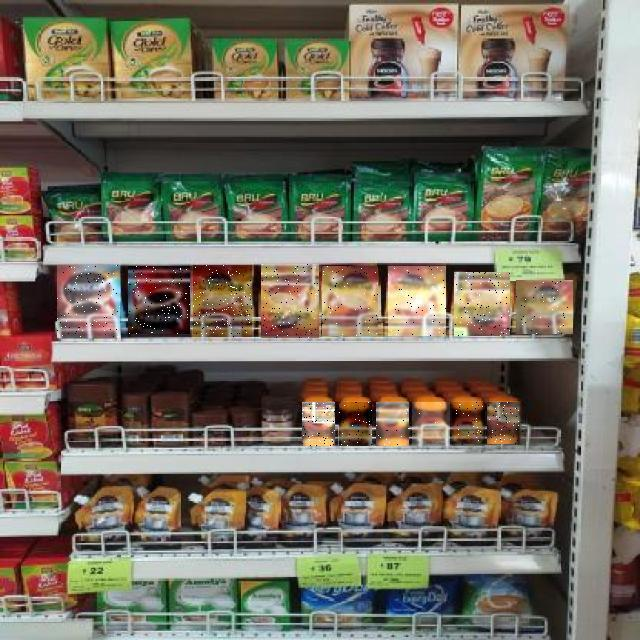Coffee: (57, 265, 120, 338), (261, 264, 319, 338), (193, 265, 252, 337), (128, 266, 190, 334), (388, 266, 446, 336), (322, 266, 378, 336), (455, 272, 511, 336), (516, 280, 573, 334), (412, 402, 450, 446), (488, 402, 524, 444), (376, 402, 409, 446), (452, 402, 485, 446), (302, 402, 335, 446), (339, 402, 372, 446)
